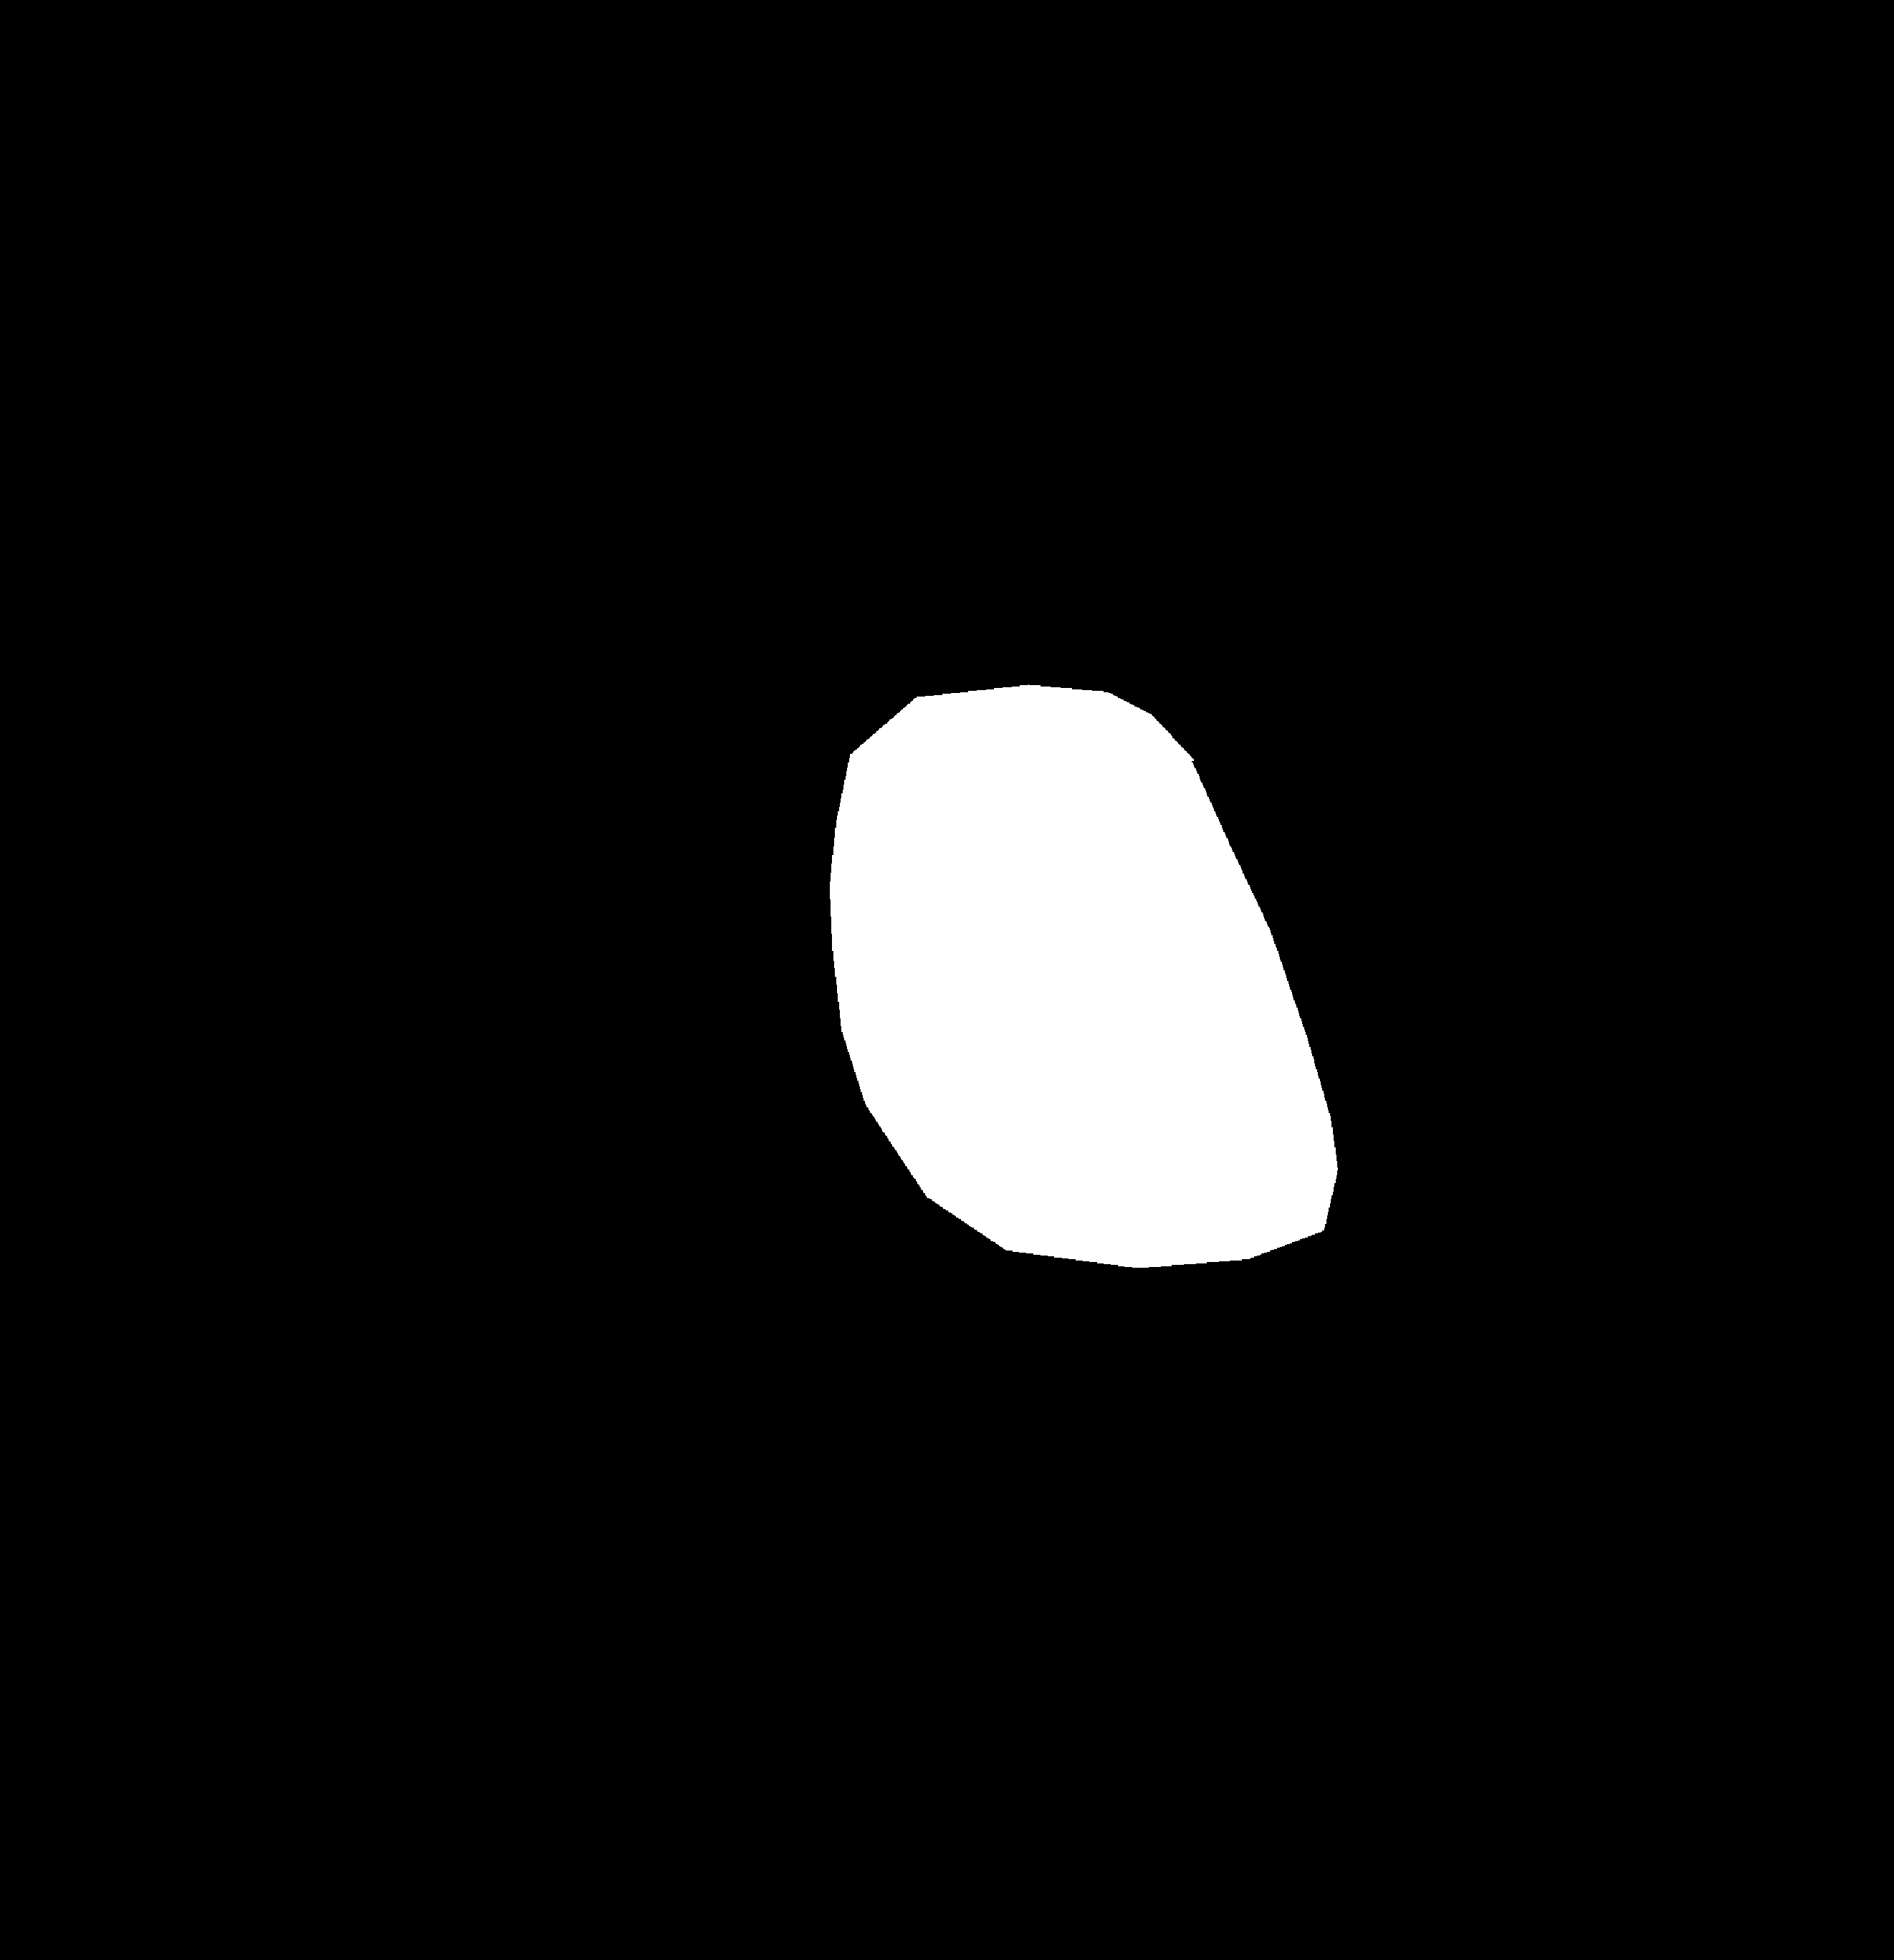heart: (831, 759, 1339, 1290)
left_lung: (334, 166, 858, 1416)
right_lung: (1008, 133, 1554, 1326)
